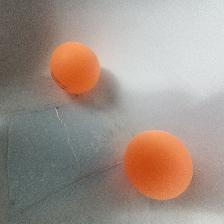YellowBall: (123, 130, 193, 201), (48, 41, 101, 95)
